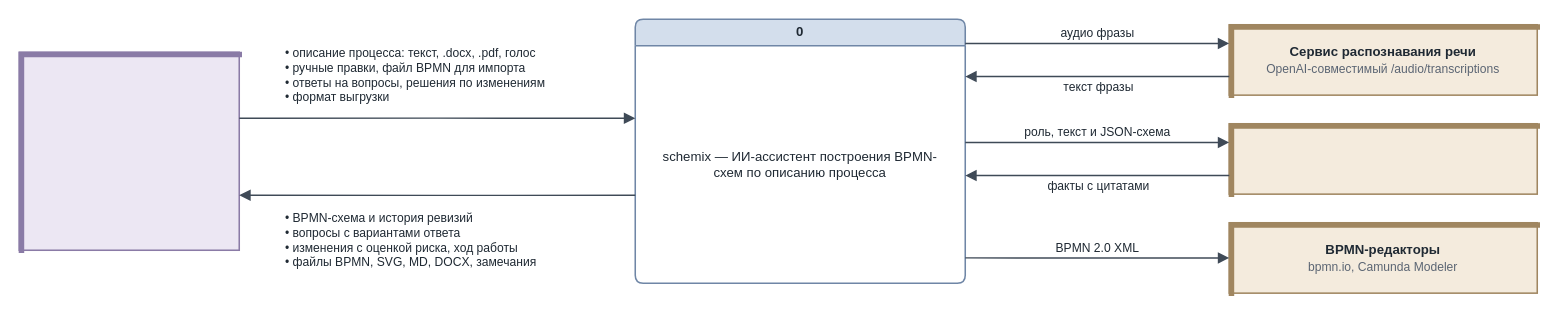
Image size: 1560x316. Some labels were removed from this diagram. Here are the shapes that lost their labels. From the top down, the centre of each, then its label:
the point at 128,150: Аналитик бизнес-аналитик, методолог
the point at 1382,158: Провайдер языковой модели OpenAI-совместимый chat/completions
